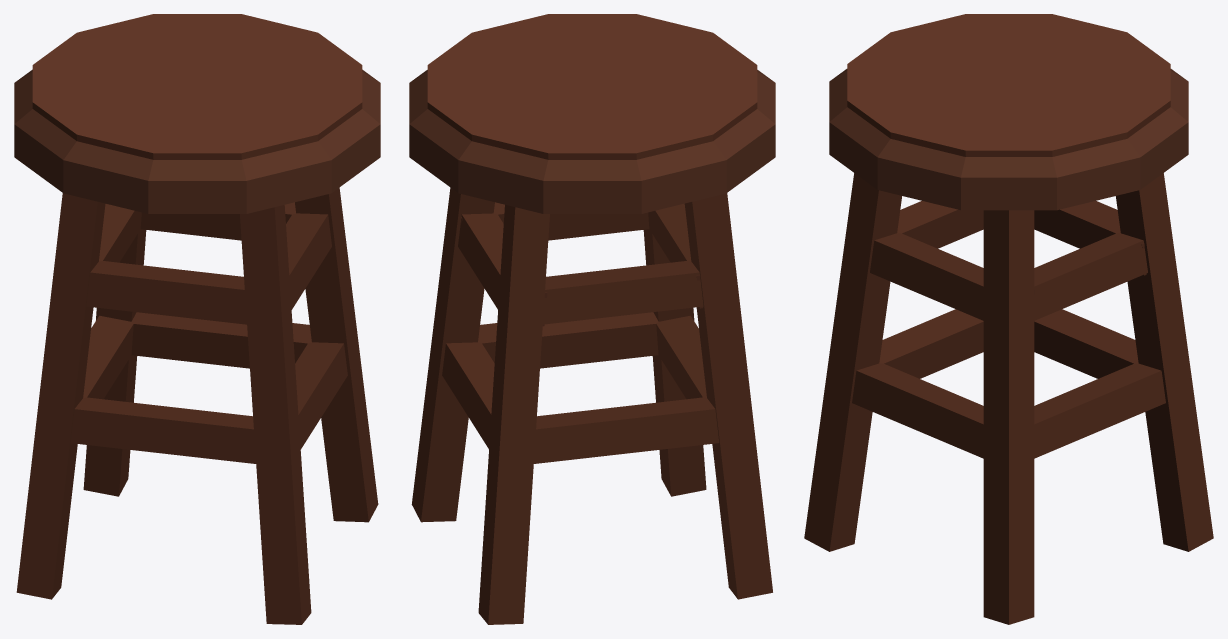
Rendered from stool1.gltf.
The picture shows the model from 3 angles, left to right: view 1: azimuth 30°, elevation 25°; view 2: azimuth 150°, elevation 25°; view 3: azimuth 270°, elevation 25°; orthographic projection.
Visible parts, largest first — view 1: cuboid; view 2: cuboid; view 3: cuboid.
Part boxes in pixels (x1=…): cuboid: x1=14, y1=14, x2=380, y2=624; cuboid: x1=409, y1=14, x2=775, y2=624; cuboid: x1=804, y1=14, x2=1213, y2=624.
Size of the model in its own units: 0.7127 by 0.8867 by 0.7127.
1 material, 1 textured.
